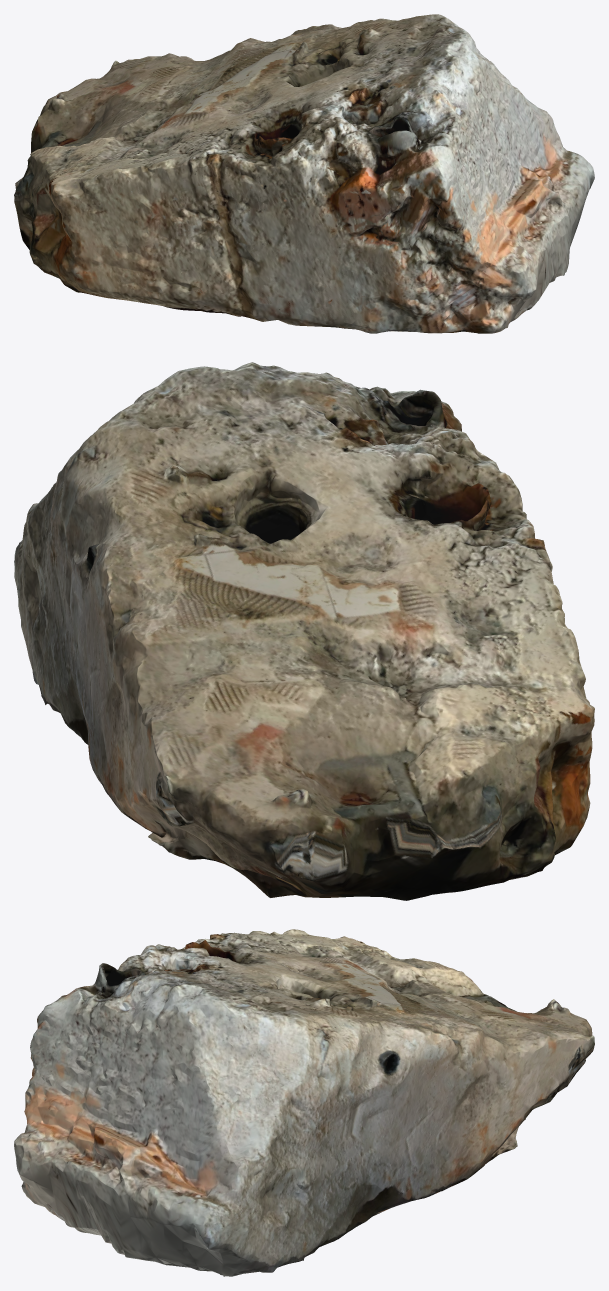
File: FRAG-S1-FS-002.glb
3 renders of one model, top to bottom at view 1: azimuth 30°, elevation 25°; view 2: azimuth 150°, elevation 25°; view 3: azimuth 270°, elevation 25°, orthographic. The views are drawn at different scales.
Parts seen in each view (by area): view 1: FRAG-S1-FS-002; view 2: FRAG-S1-FS-002; view 3: FRAG-S1-FS-002.
Part boxes in pixels (<box>): FRAG-S1-FS-002: <box>14,14,594,333</box>; FRAG-S1-FS-002: <box>14,362,594,900</box>; FRAG-S1-FS-002: <box>14,929,594,1276</box>.
Bounding box in the file's own units: 1.56 × 0.7056 × 1.58.
1 material, 1 textured.
